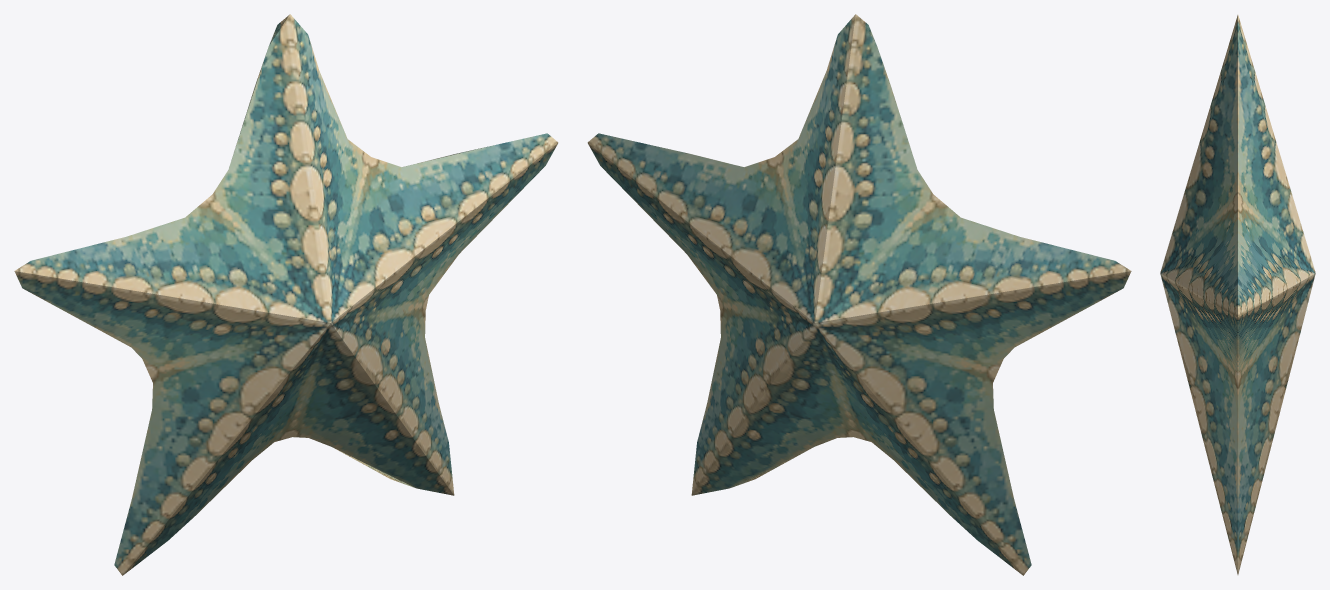
File: star_blue.glb
3 renders of one model, left to right at view 1: azimuth 30°, elevation 25°; view 2: azimuth 150°, elevation 25°; view 3: azimuth 270°, elevation 25°, orthographic. The views are drawn at different scales.
Visible parts, largest first — view 1: blue_star; view 2: blue_star; view 3: blue_star.
Part boxes in pixels (bbox=[...]): blue_star: bbox=[14, 14, 558, 575]; blue_star: bbox=[587, 14, 1131, 575]; blue_star: bbox=[1160, 15, 1315, 574].
Bounding box in the file's own units: 0.1984 × 0.1818 × 0.0526.
1 material, 1 textured.
